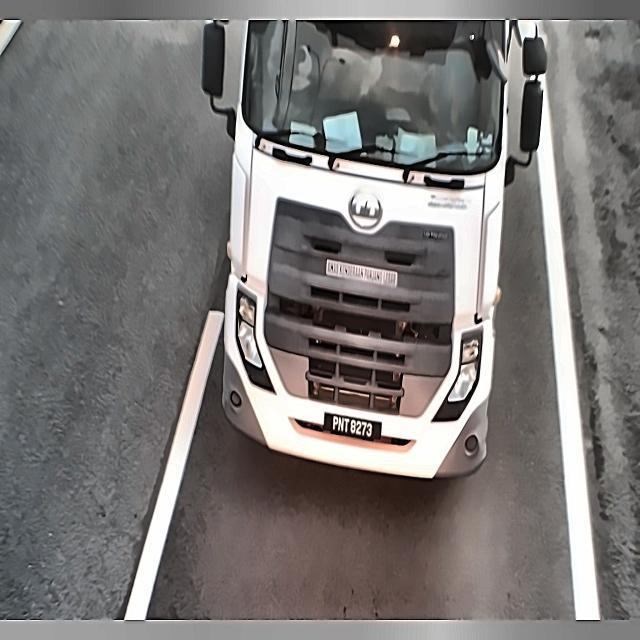car: (323, 406, 386, 450)
